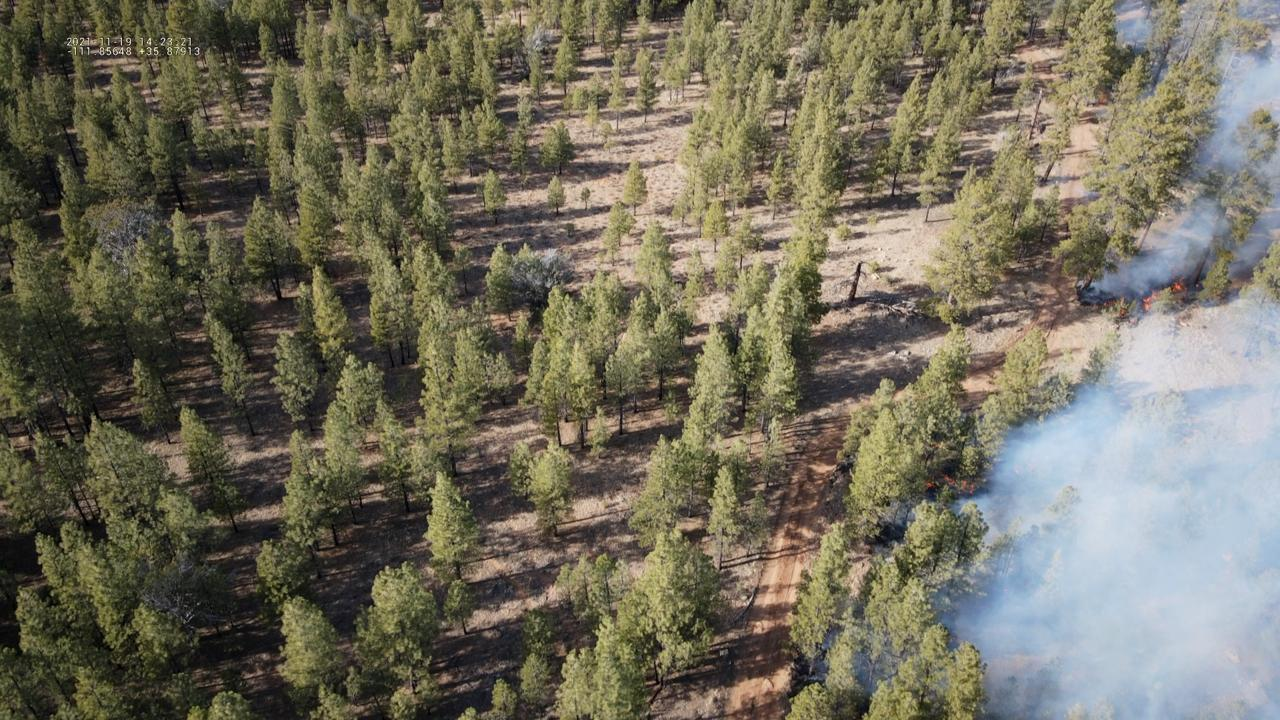fire: (1142, 289, 1159, 310), (942, 473, 956, 487), (1170, 281, 1185, 293), (969, 482, 975, 496), (961, 479, 966, 493), (925, 482, 934, 488)
smoke: (800, 309, 1280, 720), (1076, 0, 1280, 307)
